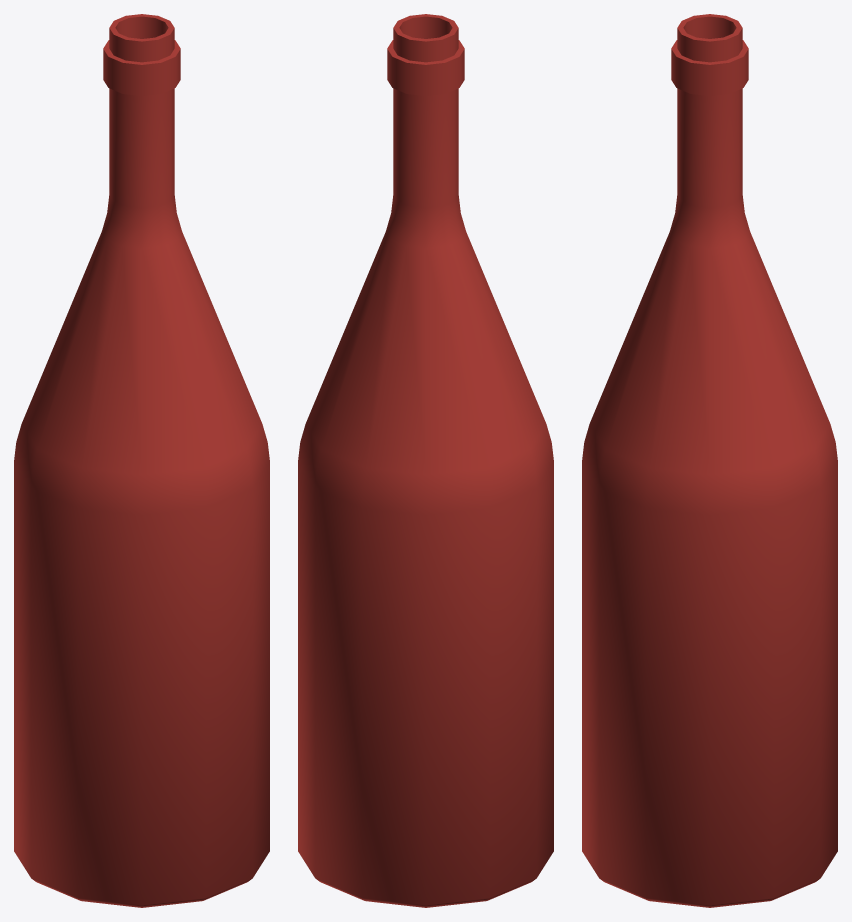
File: WineBottle.fbx
The picture shows the model from 3 angles, left to right: view 1: azimuth 30°, elevation 25°; view 2: azimuth 150°, elevation 25°; view 3: azimuth 270°, elevation 25°; orthographic projection.
Parts seen in each view (by area): view 1: WineBottle; view 2: WineBottle; view 3: WineBottle.
Boxes of the visible parts, x1,y1,x2,y2 form: WineBottle: [14, 14, 269, 907]; WineBottle: [298, 14, 553, 907]; WineBottle: [582, 14, 837, 907].
Bounding box in the file's own units: 0.0889 × 0.3175 × 0.0889.
